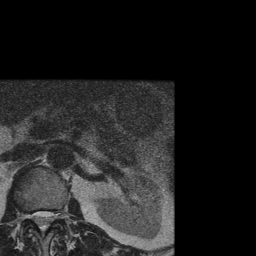CCS_normal: (39, 204, 46, 242)
LFS_normal: (54, 203, 61, 226)
LLS_normal: (46, 205, 53, 232)
RFS_stenosis: (23, 205, 31, 228)
RLS_normal: (31, 206, 39, 230)
